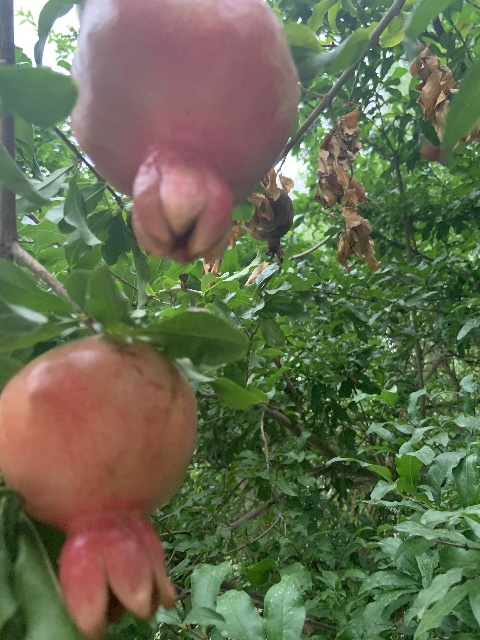ripe: (69, 0, 300, 270), (1, 335, 199, 630)
